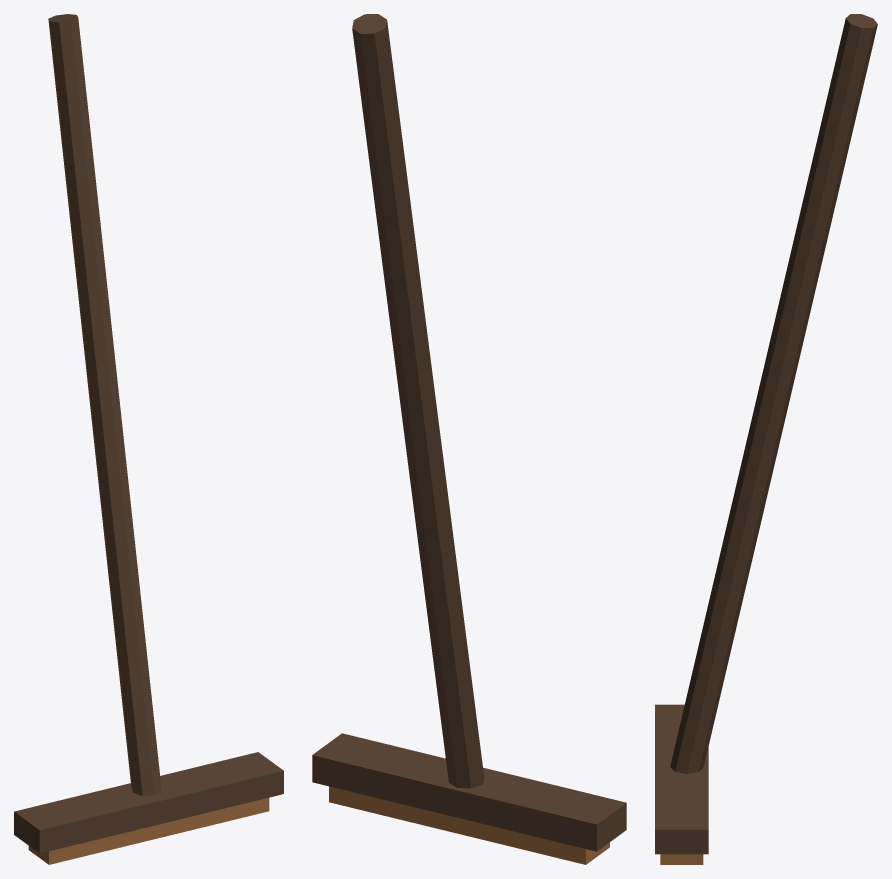
The model's file is Broom.fbx.
The picture shows the model from 3 angles, left to right: view 1: azimuth 30°, elevation 25°; view 2: azimuth 150°, elevation 25°; view 3: azimuth 270°, elevation 25°; orthographic projection. The views are drawn at different scales.
Visible parts, largest first — view 1: pCylinder1, pCube1; view 2: pCylinder1, pCube1; view 3: pCylinder1, pCube1.
Boxes of the visible parts, box(x1,y1,x2,y2) form: pCylinder1: box(48, 14, 161, 795); pCube1: box(14, 752, 283, 864); pCylinder1: box(352, 14, 484, 788); pCube1: box(312, 733, 626, 864); pCylinder1: box(670, 14, 877, 773); pCube1: box(655, 704, 708, 864).
Size of the model in its own units: 18.03 by 53.1 by 13.57.
